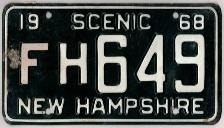4: (135, 33, 170, 95)
6: (95, 33, 129, 95)
9: (173, 32, 207, 95)
F: (18, 40, 53, 86)
H: (58, 41, 89, 87)
